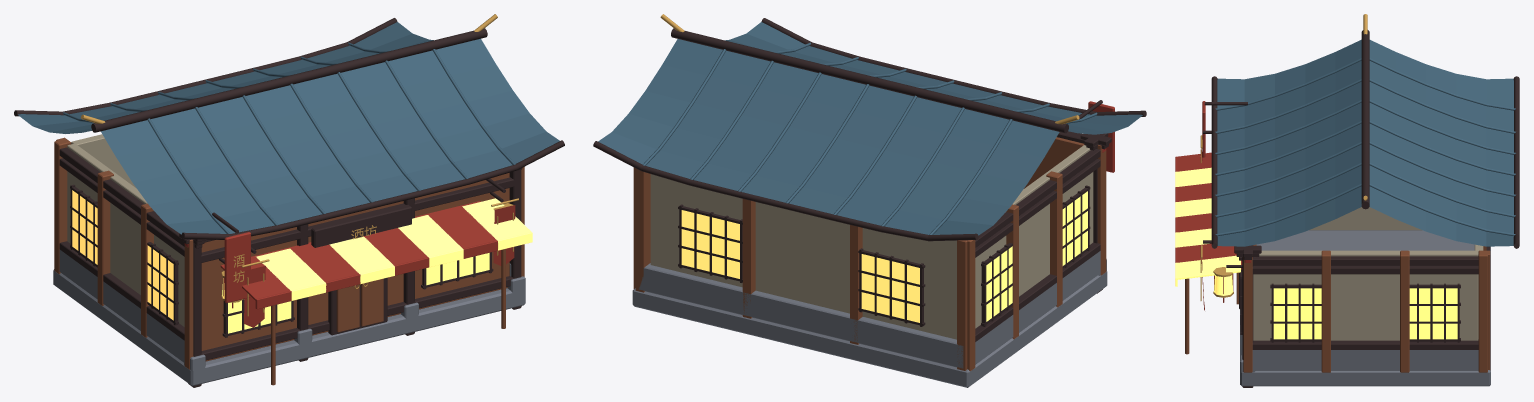
The model's file is model-shop-03.glb.
3 renders of one model, left to right at view 1: azimuth 30°, elevation 25°; view 2: azimuth 150°, elevation 25°; view 3: azimuth 270°, elevation 25°, orthographic. The views are drawn at different scales.
Visible parts, largest first — view 1: model-shop-03; view 2: model-shop-03; view 3: model-shop-03.
Boxes of the visible parts, x1,y1,x2,y2 form: model-shop-03: (14,14,564,387); model-shop-03: (593,14,1146,387); model-shop-03: (1175,14,1519,387).
Bounding box in the file's own units: 11.05 × 5.94 × 8.78.
